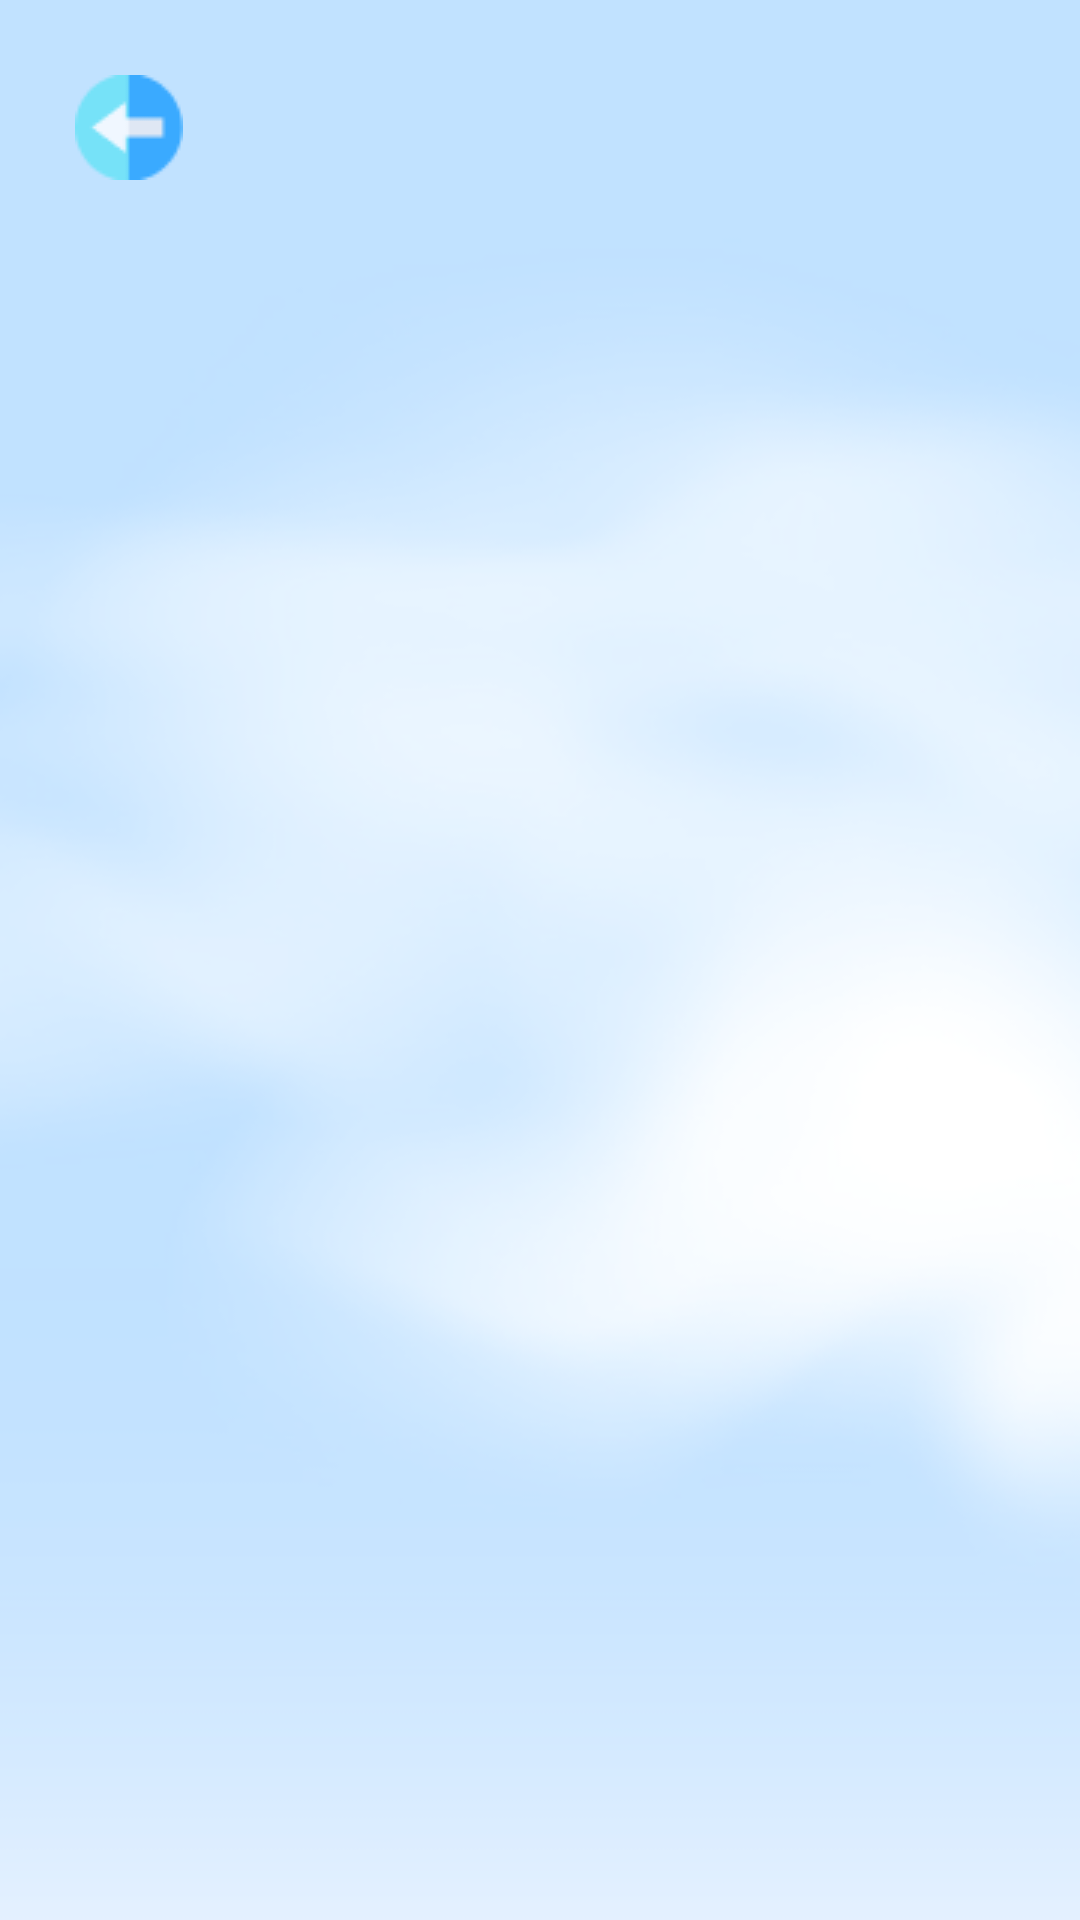

Named icons in this screenshot (1080 × 1920) and their centers, (x=x, y=y):
goback: (x=129, y=127)
